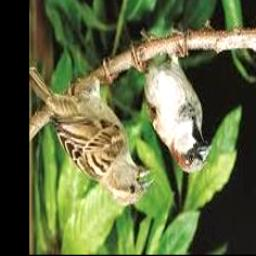Sparrow: (29, 58, 155, 206), (131, 31, 213, 174)
